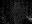person: (25, 16, 31, 22)
